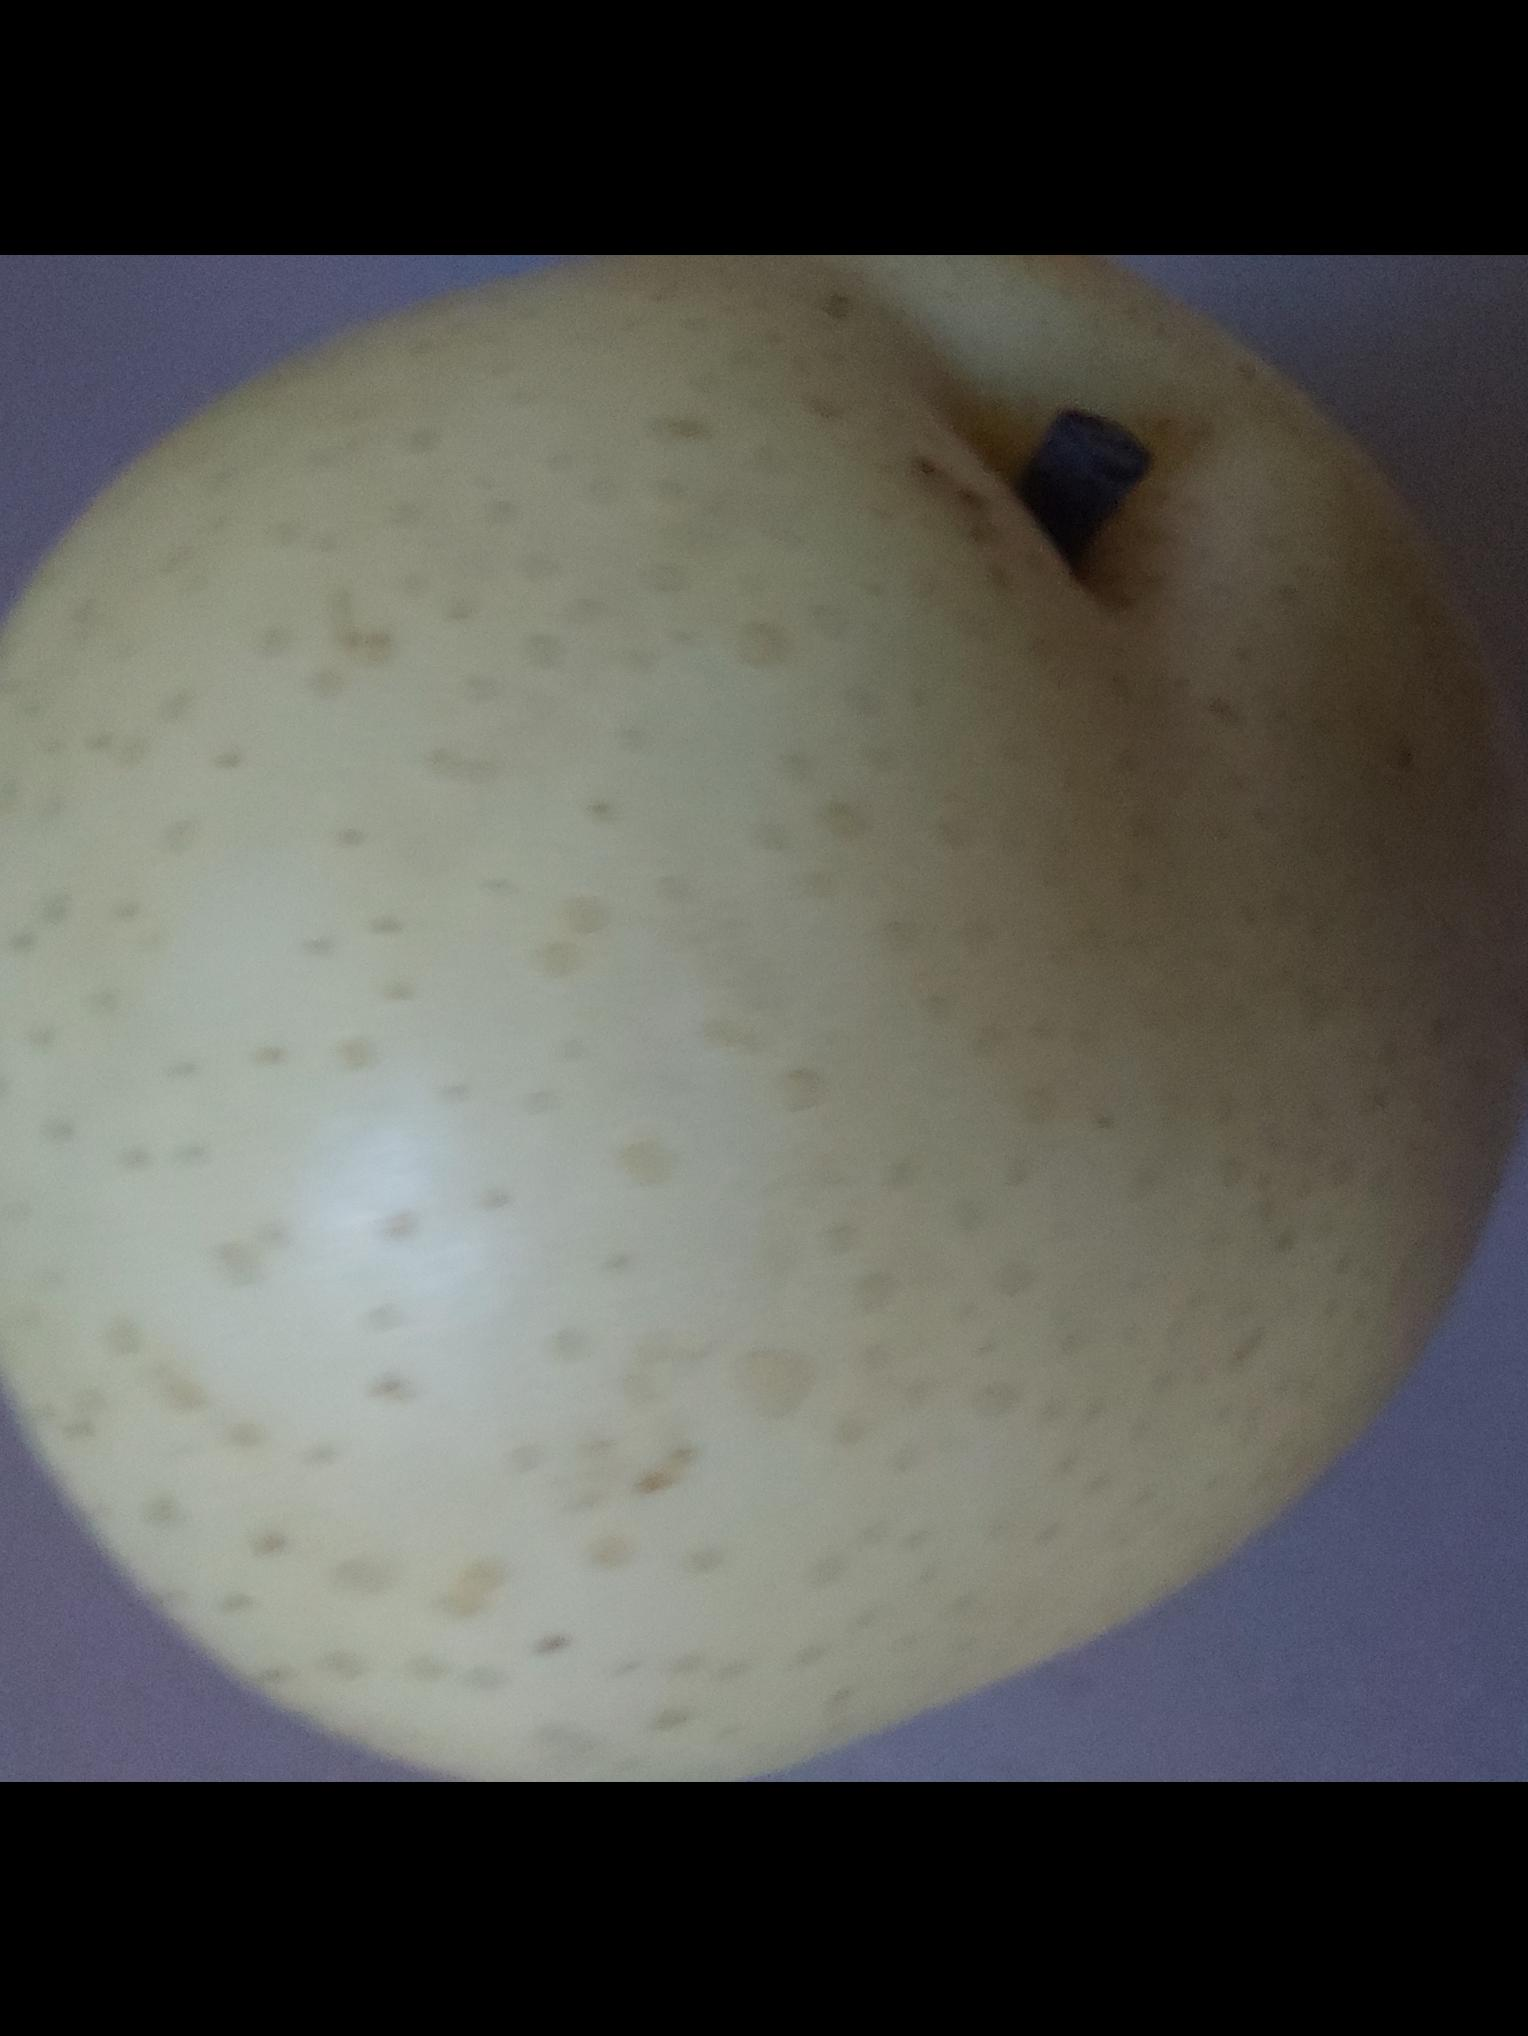Good Pear: (0, 257, 1528, 1783)
